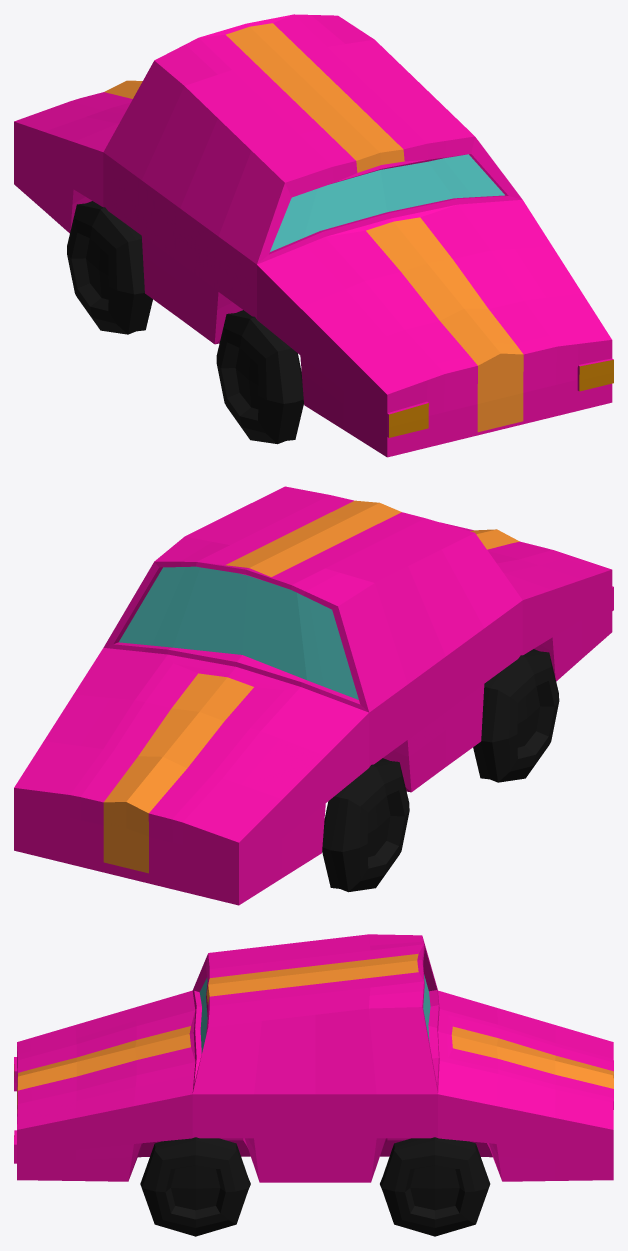
File: car_s.obj
3 views of the same model, one above another, from view 1: azimuth 30°, elevation 25°; view 2: azimuth 150°, elevation 25°; view 3: azimuth 270°, elevation 25° (orthographic). The views are drawn at different scales.
Visible parts, largest first — view 1: Cube, Cube.004, Cube.001, Cube.002, Cube.003; view 2: Cube, Cube.002, Cube.001, Cube.004; view 3: Cube, Cube.001, Cube.004, Cube.002.
Part boxes in pixels (x1,y1,x2,y2): Cube: [14, 14, 613, 457]; Cube.004: [104, 23, 523, 432]; Cube.001: [67, 201, 303, 444]; Cube.002: [270, 154, 504, 251]; Cube.003: [389, 359, 613, 437]; Cube: [14, 486, 613, 905]; Cube.002: [119, 566, 358, 699]; Cube.001: [322, 649, 559, 892]; Cube.004: [103, 500, 519, 873]; Cube: [14, 934, 613, 1182]; Cube.001: [140, 1137, 490, 1236]; Cube.004: [17, 953, 613, 1113]; Cube.002: [199, 974, 430, 1053].
Bounding box in the file's own units: 3.6 × 3.27 × 7.9.
